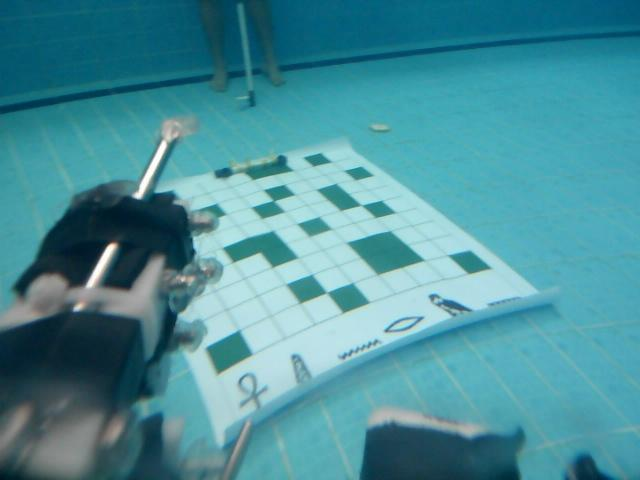Ankh: (235, 371, 270, 413)
Mouth: (383, 313, 427, 334)
Owl: (424, 290, 476, 320)
Reed: (288, 351, 312, 388)
Water: (336, 338, 384, 361)
